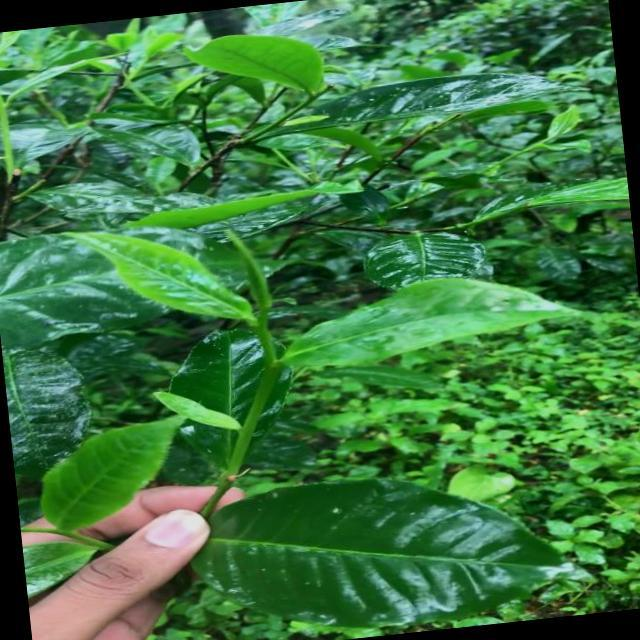Stem: (260, 366, 282, 386)
